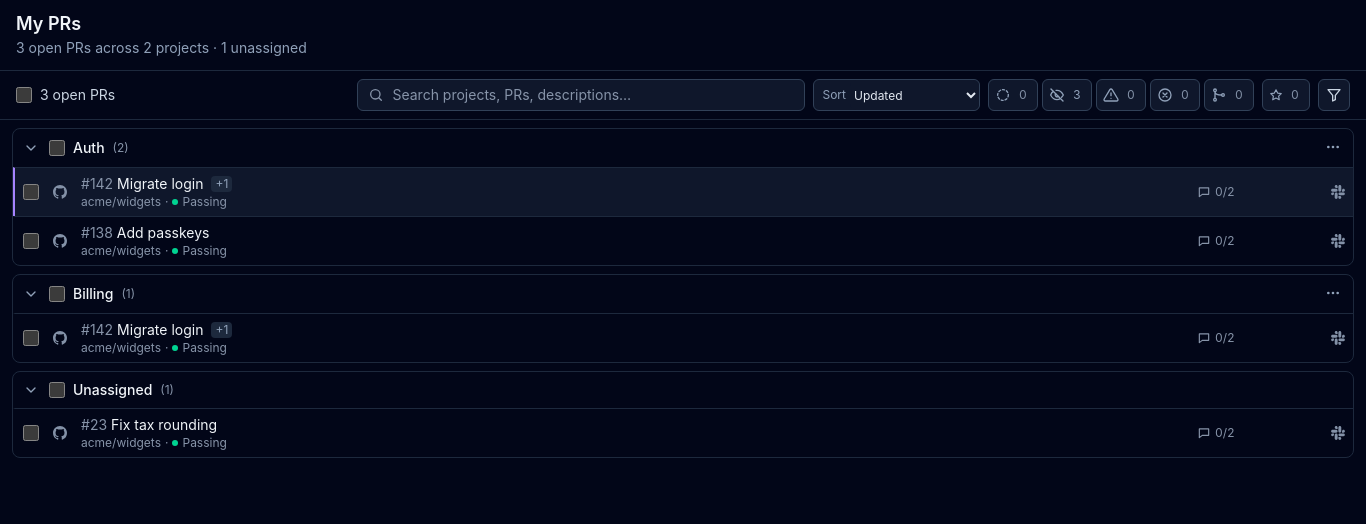
Test: a merged PR is not listed as open and shows its state under the Archived filter
This screenshot has width=1366, height=524.
Expected: the element "Ship sync" is not shown
Expected: the text "3 open PRs across 2 projects · 1 unassigned" does not show "merged", [16,39,307,56]
Click the button named "Filter menu": (1334, 95) [1318,79,1350,111]
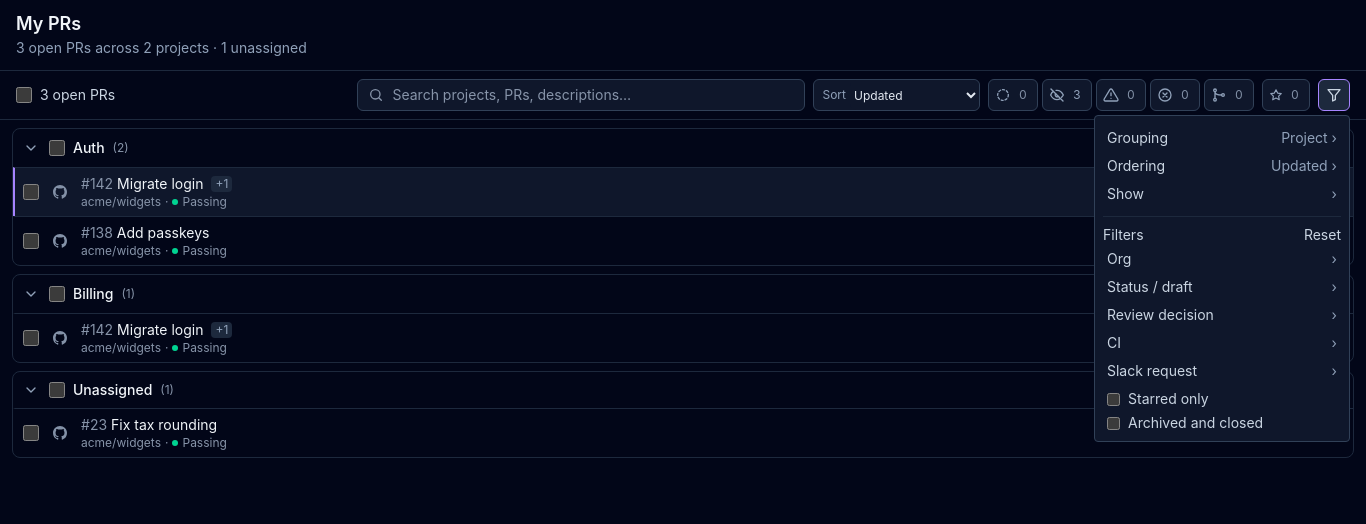
Click the checkbox labelled "Archived and closed": (1114, 423) [1107,416,1120,430]
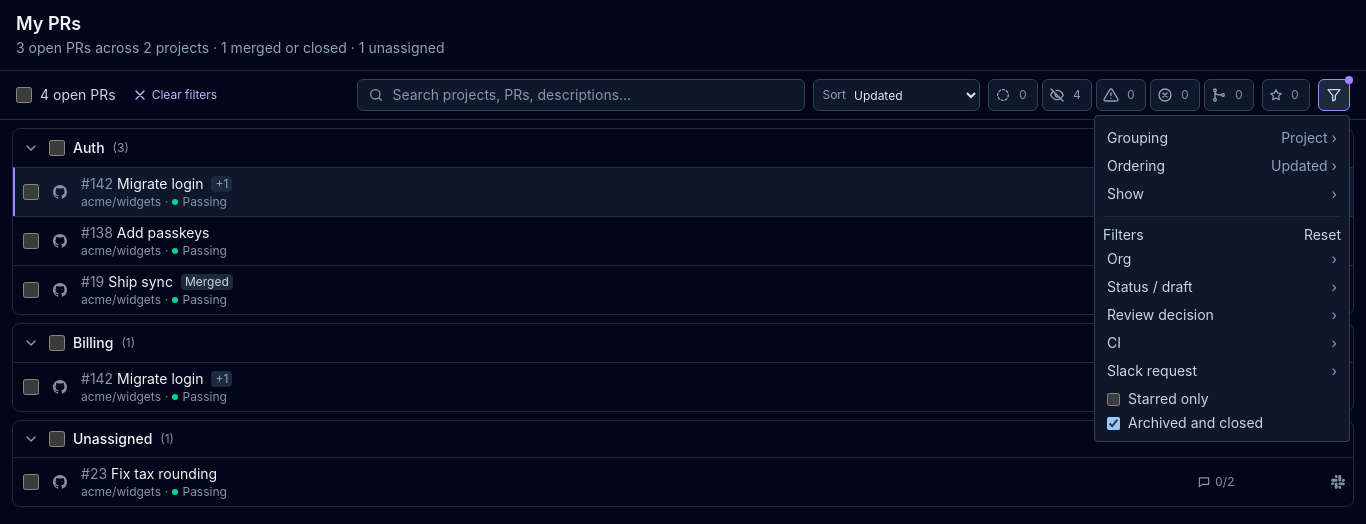
Result: the text "Merged" is shown at [181,274,233,290]
